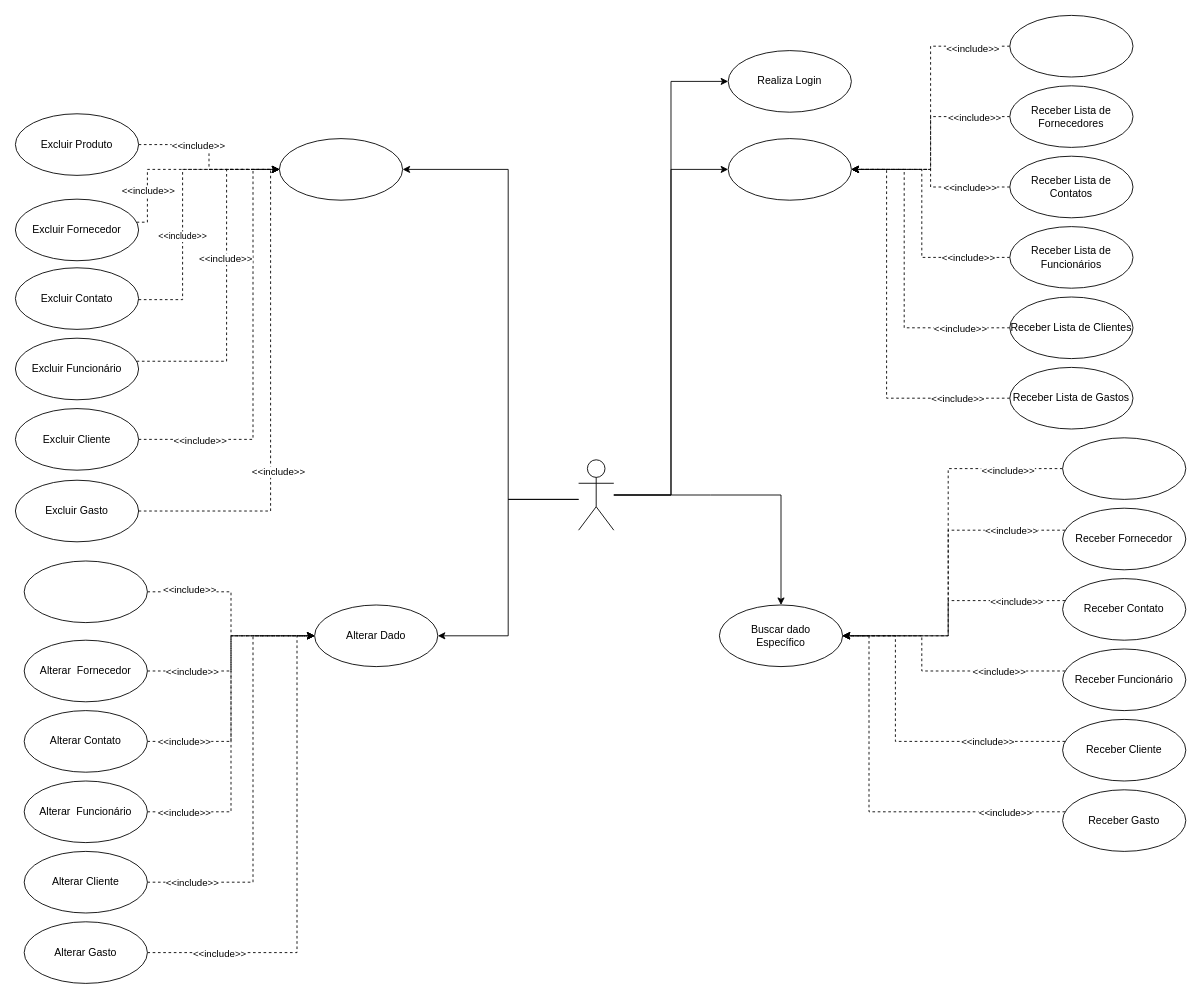
The diagram is 1201 pixels wide and 999 high, and some of its shapes have lost their labels. Each missing label, with the box of its shape:
Alterar Produto: (23, 560, 147, 623)
Excluir Dado: (279, 138, 403, 200)
Receber Lista de Dados: (727, 138, 851, 200)
Receber Lista de Produtos: (1009, 15, 1133, 77)
Receber Produto: (1062, 437, 1186, 499)
Usuário: (578, 459, 614, 530)
